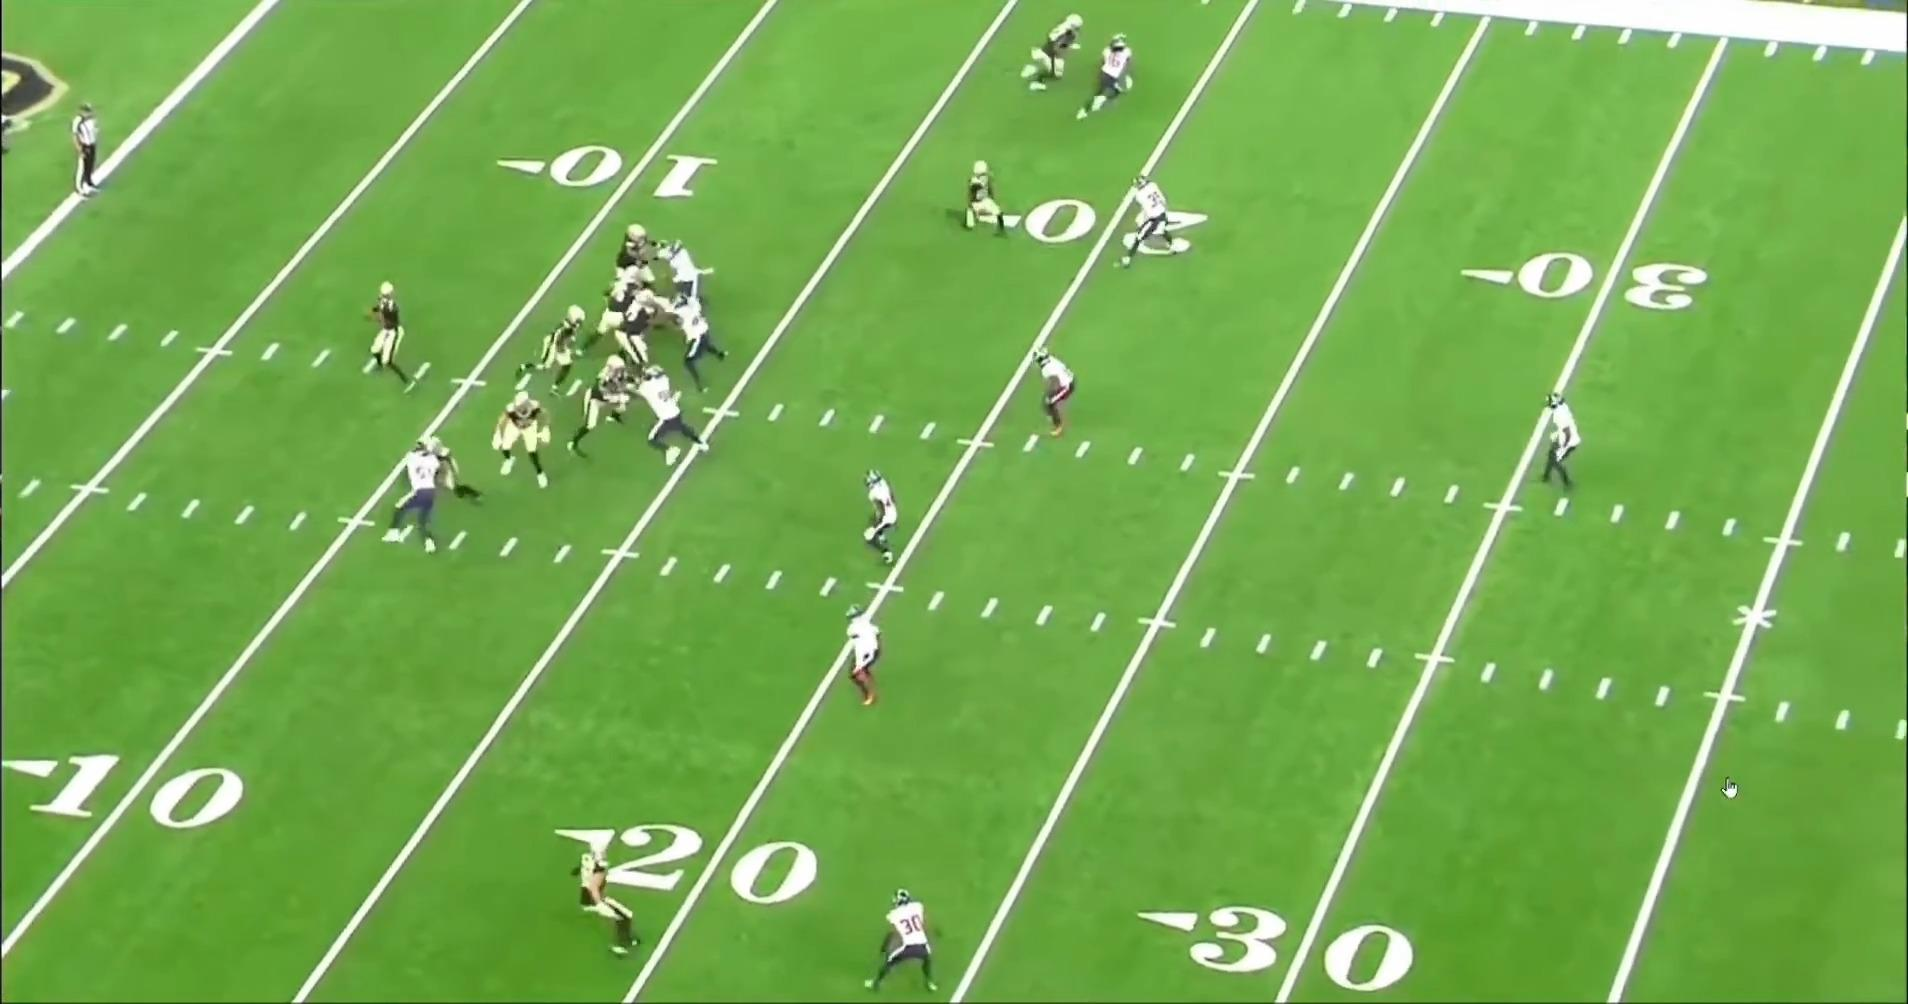player: (563, 831, 639, 958), (863, 889, 945, 1001), (377, 434, 451, 554), (636, 368, 716, 466), (562, 355, 634, 457), (669, 292, 740, 393), (524, 306, 593, 402), (1120, 173, 1188, 269), (399, 435, 488, 506), (489, 385, 549, 490), (1018, 8, 1089, 96), (361, 279, 414, 396), (1084, 30, 1146, 125), (837, 605, 887, 715), (604, 294, 667, 376), (1531, 393, 1581, 495), (1032, 347, 1080, 444), (855, 465, 900, 568), (965, 153, 1016, 235), (663, 236, 718, 309), (618, 220, 666, 290), (603, 262, 649, 308)
ref: (74, 94, 115, 200)
